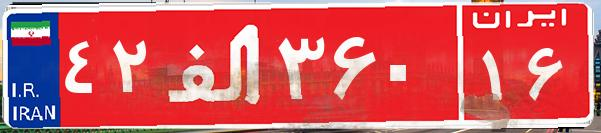0: (385, 28, 445, 110)
1: (475, 38, 525, 113)
2: (110, 28, 158, 105)
3: (273, 28, 330, 110)
4: (57, 26, 110, 107)
6: (330, 28, 385, 110), (525, 38, 570, 115)
الف: (158, 15, 273, 115)
